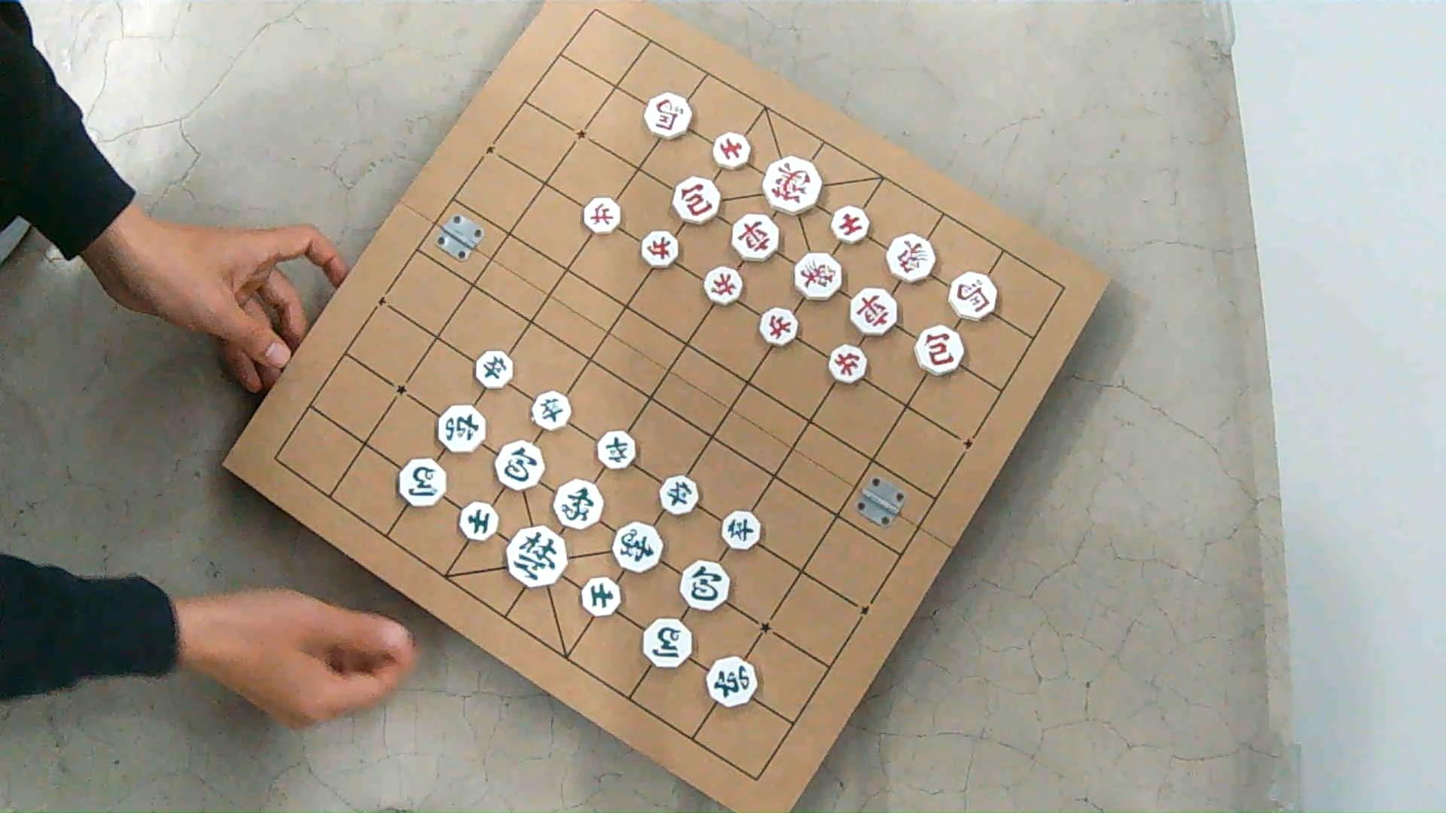cha_green: (706, 656, 755, 707), (436, 405, 485, 453)
cha_red: (850, 288, 897, 336), (731, 215, 778, 261)
jol_green: (721, 510, 760, 550), (532, 391, 571, 430), (660, 476, 698, 515), (597, 431, 635, 469), (475, 350, 513, 388)
jol_red: (703, 266, 742, 305), (758, 308, 798, 346), (828, 344, 866, 383), (583, 197, 621, 233), (642, 231, 678, 266)
ma_green: (642, 619, 691, 668), (398, 458, 446, 507)
ma_red: (949, 273, 996, 320), (644, 93, 691, 139)
po_green: (680, 560, 729, 611), (494, 440, 544, 489)
po_red: (914, 325, 963, 376), (673, 177, 719, 224)
sa_green: (459, 501, 497, 541), (582, 577, 620, 616)
sa_red: (830, 206, 869, 243), (712, 132, 750, 169)
sang_green: (612, 521, 662, 572), (554, 479, 602, 529)
sang_red: (886, 233, 934, 282), (794, 253, 841, 300)
wang_green: (505, 525, 568, 587)
wang_red: (763, 157, 821, 215)
